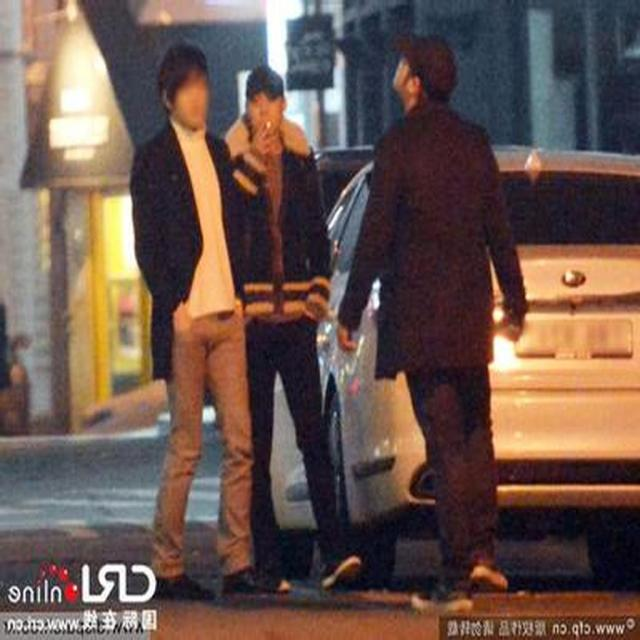smoking: (243, 103, 309, 171)
